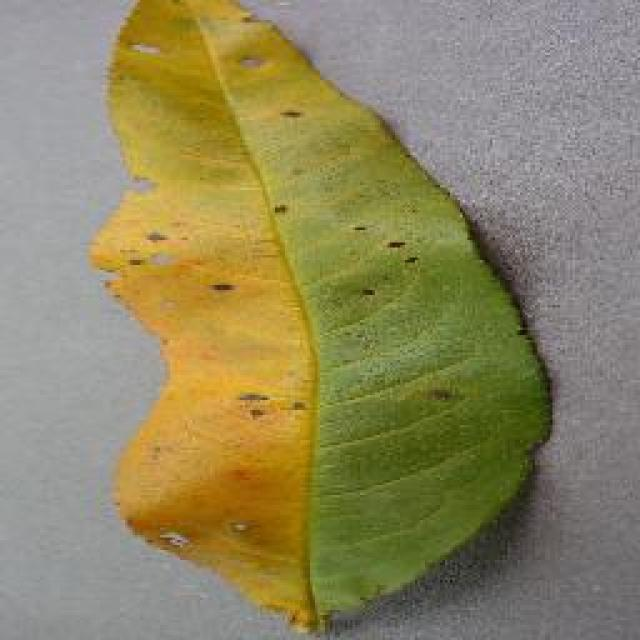Peach_Bacterial_Spot: (100, 31, 488, 482)
